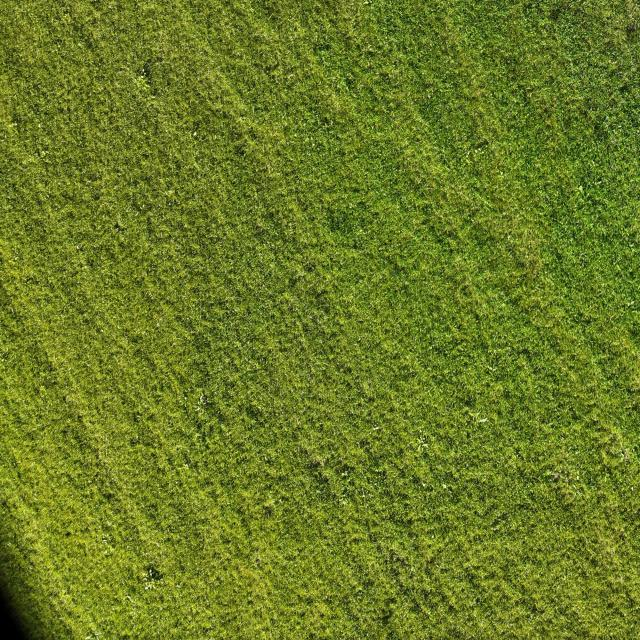rumex: (129, 65, 157, 97), (191, 387, 216, 420), (409, 428, 432, 456), (139, 566, 157, 594)
